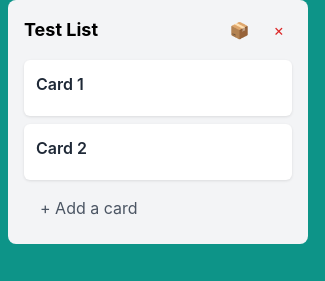
Test: ListColumn › allows editing list title
Click the button "Test List" at (123, 30), box [24,16,221,44]
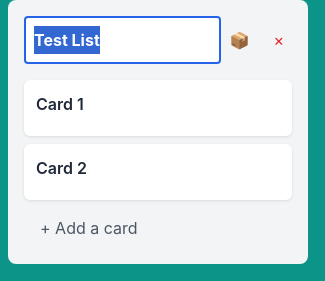
Expected: the field showing "Test List" is shown, [24,16,221,64]
